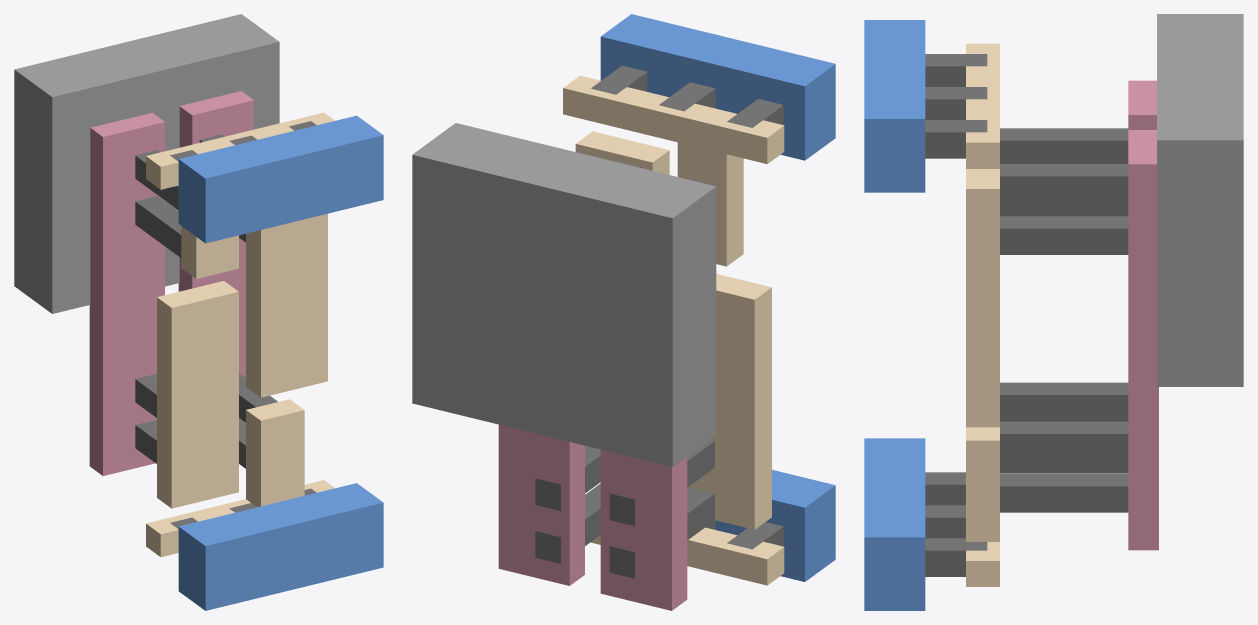
The model's file is sky130_fd_sc_hd__conb_1.gds.gltf.
The picture shows the model from 3 angles, left to right: view 1: azimuth 30°, elevation 25°; view 2: azimuth 150°, elevation 25°; view 3: azimuth 270°, elevation 25°; orthographic projection. The views are drawn at different scales.
Parts seen in each view (by area): view 1: sky130_fd_sc_hd__conb_1_li1, sky130_fd_sc_hd__conb_1_met1, sky130_fd_sc_hd__conb_1_nwell, sky130_fd_sc_hd__conb_1_poly, sky130_fd_sc_hd__conb_1_licon, sky130_fd_sc_hd__conb_1_mcon; view 2: sky130_fd_sc_hd__conb_1_nwell, sky130_fd_sc_hd__conb_1_li1, sky130_fd_sc_hd__conb_1_poly, sky130_fd_sc_hd__conb_1_met1, sky130_fd_sc_hd__conb_1_licon, sky130_fd_sc_hd__conb_1_mcon; view 3: sky130_fd_sc_hd__conb_1_licon, sky130_fd_sc_hd__conb_1_nwell, sky130_fd_sc_hd__conb_1_met1, sky130_fd_sc_hd__conb_1_li1, sky130_fd_sc_hd__conb_1_poly, sky130_fd_sc_hd__conb_1_mcon.
Boxes of the visible parts, left/top/right/bottom form: sky130_fd_sc_hd__conb_1_li1: left=146, top=112, right=334, bottom=556; sky130_fd_sc_hd__conb_1_met1: left=178, top=115, right=383, bottom=610; sky130_fd_sc_hd__conb_1_nwell: left=14, top=14, right=279, bottom=313; sky130_fd_sc_hd__conb_1_poly: left=89, top=91, right=253, bottom=475; sky130_fd_sc_hd__conb_1_licon: left=135, top=134, right=277, bottom=468; sky130_fd_sc_hd__conb_1_mcon: left=170, top=121, right=316, bottom=528; sky130_fd_sc_hd__conb_1_nwell: left=412, top=123, right=716, bottom=466; sky130_fd_sc_hd__conb_1_li1: left=563, top=75, right=784, bottom=585; sky130_fd_sc_hd__conb_1_poly: left=498, top=424, right=687, bottom=610; sky130_fd_sc_hd__conb_1_met1: left=600, top=14, right=835, bottom=581; sky130_fd_sc_hd__conb_1_licon: left=535, top=160, right=714, bottom=578; sky130_fd_sc_hd__conb_1_mcon: left=591, top=65, right=783, bottom=549; sky130_fd_sc_hd__conb_1_licon: left=1000, top=128, right=1128, bottom=512; sky130_fd_sc_hd__conb_1_nwell: left=1157, top=14, right=1243, bottom=386; sky130_fd_sc_hd__conb_1_met1: left=864, top=20, right=925, bottom=610; sky130_fd_sc_hd__conb_1_li1: left=966, top=43, right=999, bottom=586; sky130_fd_sc_hd__conb_1_poly: left=1128, top=80, right=1158, bottom=550; sky130_fd_sc_hd__conb_1_mcon: left=925, top=54, right=987, bottom=576.
Size of the model in its own units: 1.76 by 3.2 by 2.24.
